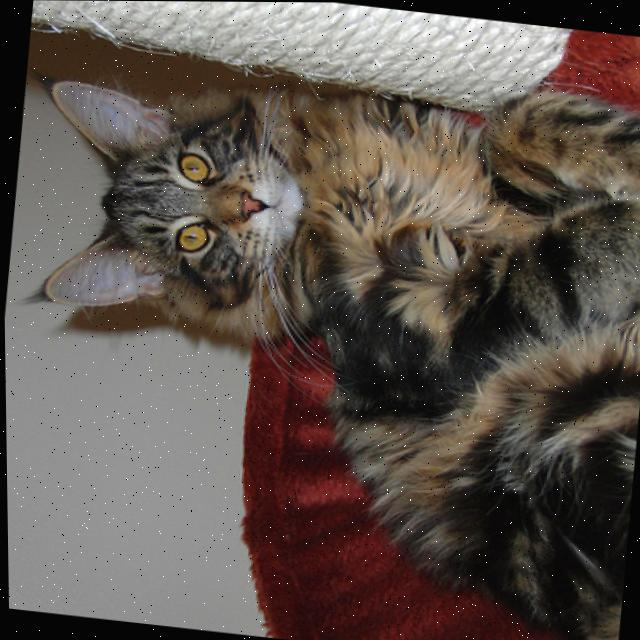Maine Coon: (0, 30, 640, 640)
